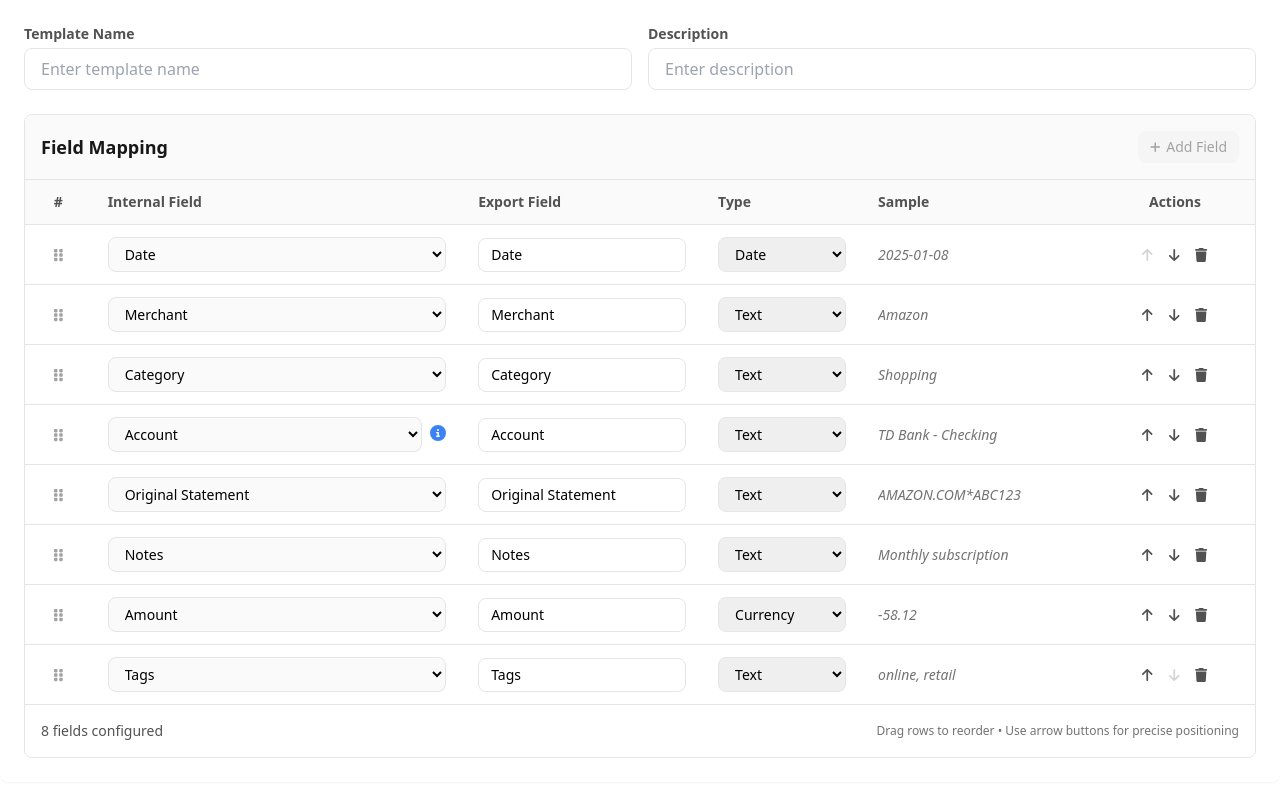
Test: NewTemplateEditor › Field Management › should allow deleting a field
Find the first delete button and click it
Click the button titled "Delete" in the row of "2025-01-08": (1202, 254) [1189, 242, 1214, 268]
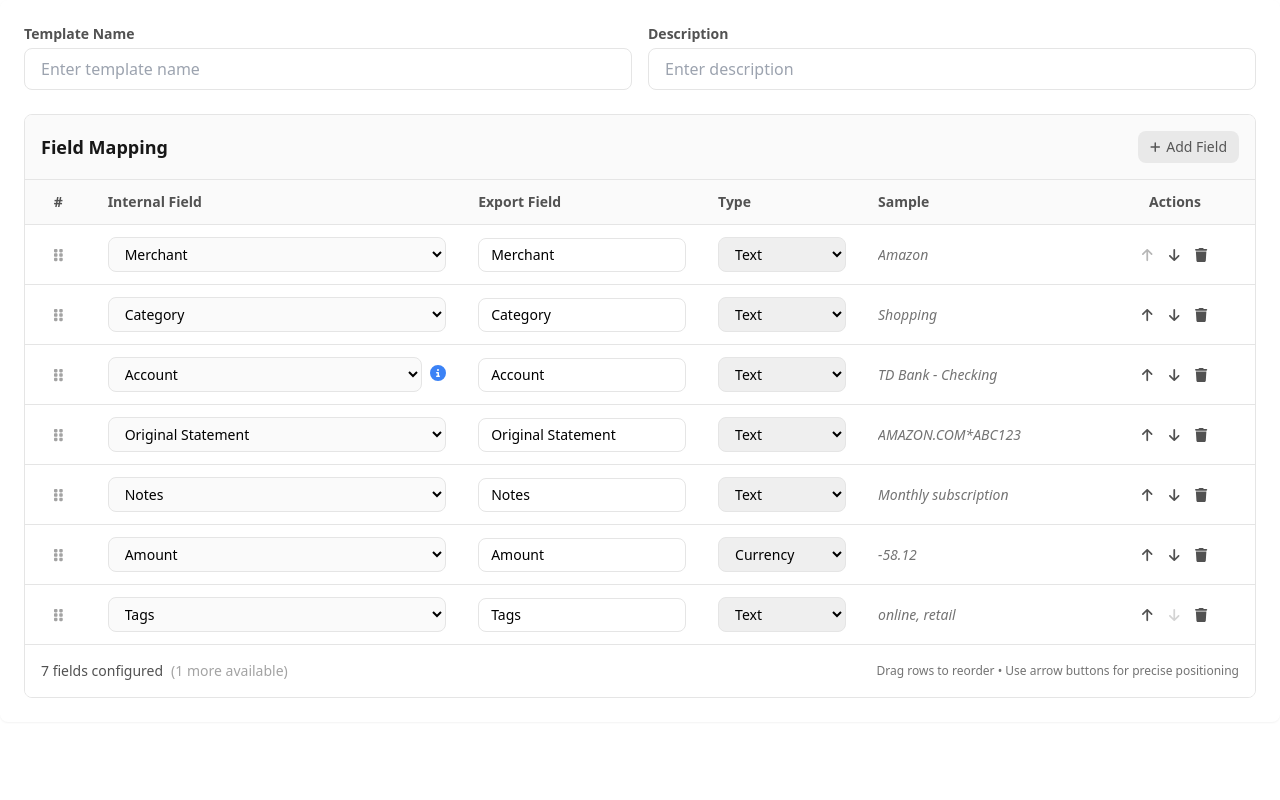
Result: the text "7 fields configured" is shown at [41, 661, 288, 681]
